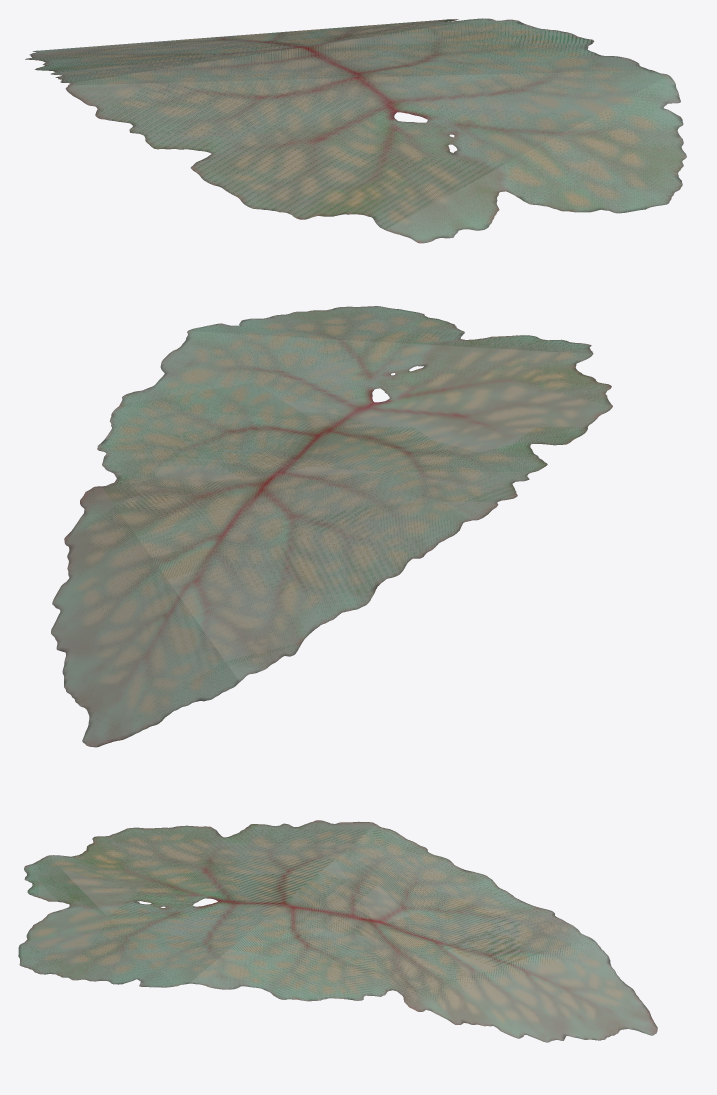
The model's file is Spin Reef Leaf D.fbx.
3 views of the same model, one above another, from view 1: azimuth 30°, elevation 25°; view 2: azimuth 150°, elevation 25°; view 3: azimuth 270°, elevation 25° (orthographic). The views are drawn at different scales.
Visible parts, largest first — view 1: Spin Reef Leaf D; view 2: Spin Reef Leaf D; view 3: Spin Reef Leaf D.
Boxes of the visible parts, x1,y1,x2,y2 form: Spin Reef Leaf D: (25,18,686,243); Spin Reef Leaf D: (51,306,612,747); Spin Reef Leaf D: (18,820,657,1042).
Size of the model in its own units: 43.76 by 18.34 by 74.38.
